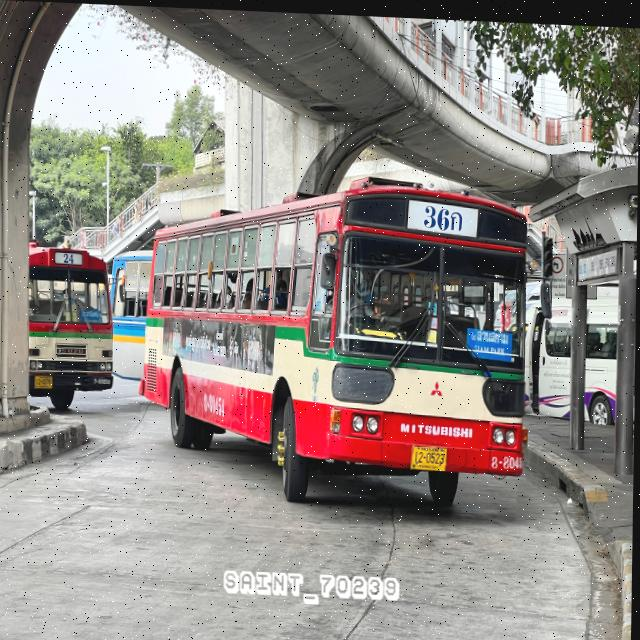BMTA-bus: (141, 169, 532, 510), (27, 247, 117, 412)
Bus-Line-Number: (418, 198, 468, 234), (63, 253, 77, 264)
Destination-Sign-Normal: (467, 322, 514, 360), (79, 309, 105, 322)
